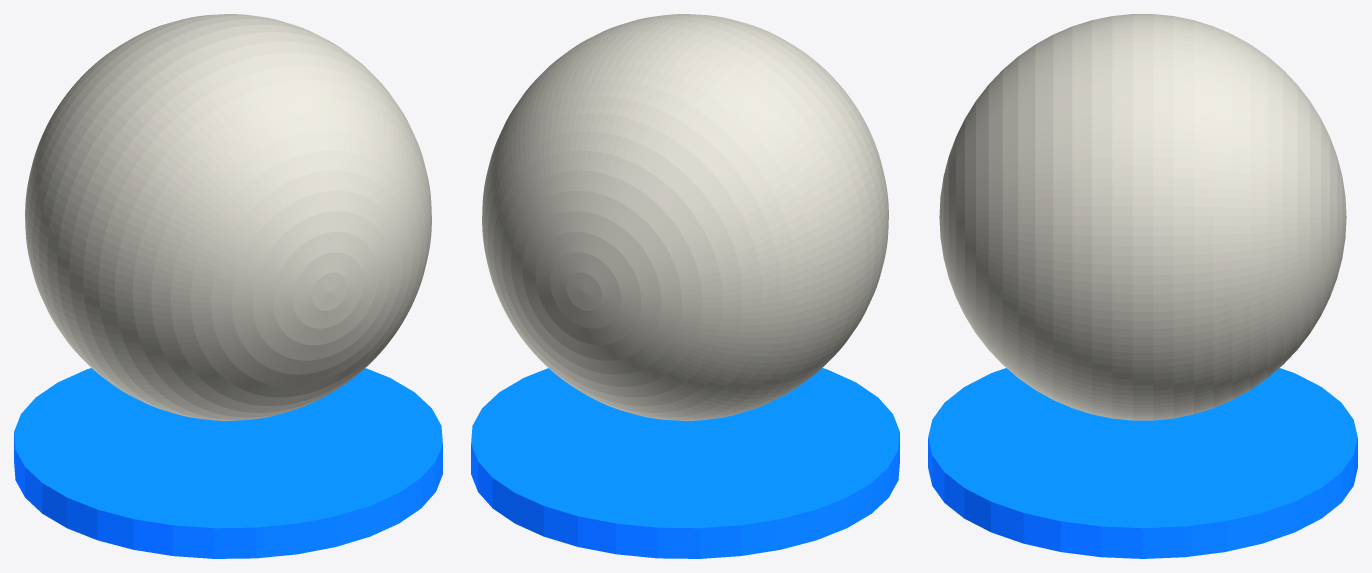
Rendered from sports_baseball.dae.
The picture shows the model from 3 angles, left to right: view 1: azimuth 30°, elevation 25°; view 2: azimuth 150°, elevation 25°; view 3: azimuth 270°, elevation 25°; orthographic projection.
Parts seen in each view (by area): view 1: 04_05_Popular_Sports_Baseball_part_01, 04_05_Popular_Sports_Baseball_ROOT_base; view 2: 04_05_Popular_Sports_Baseball_part_01, 04_05_Popular_Sports_Baseball_ROOT_base; view 3: 04_05_Popular_Sports_Baseball_part_01, 04_05_Popular_Sports_Baseball_ROOT_base.
Part boxes in pixels (box(x1,y1,x2,y2)): 04_05_Popular_Sports_Baseball_part_01: box(25, 14, 431, 420); 04_05_Popular_Sports_Baseball_ROOT_base: box(14, 368, 442, 558); 04_05_Popular_Sports_Baseball_part_01: box(482, 14, 888, 420); 04_05_Popular_Sports_Baseball_ROOT_base: box(471, 368, 899, 558); 04_05_Popular_Sports_Baseball_part_01: box(939, 14, 1346, 420); 04_05_Popular_Sports_Baseball_ROOT_base: box(928, 368, 1357, 558).
Bounding box in the file's own units: 0.76 × 0.8491 × 0.76.
